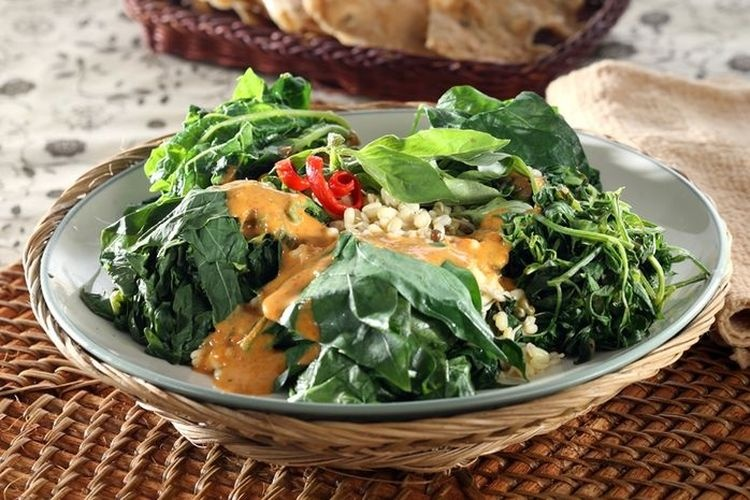pecel: (116, 99, 642, 391)
